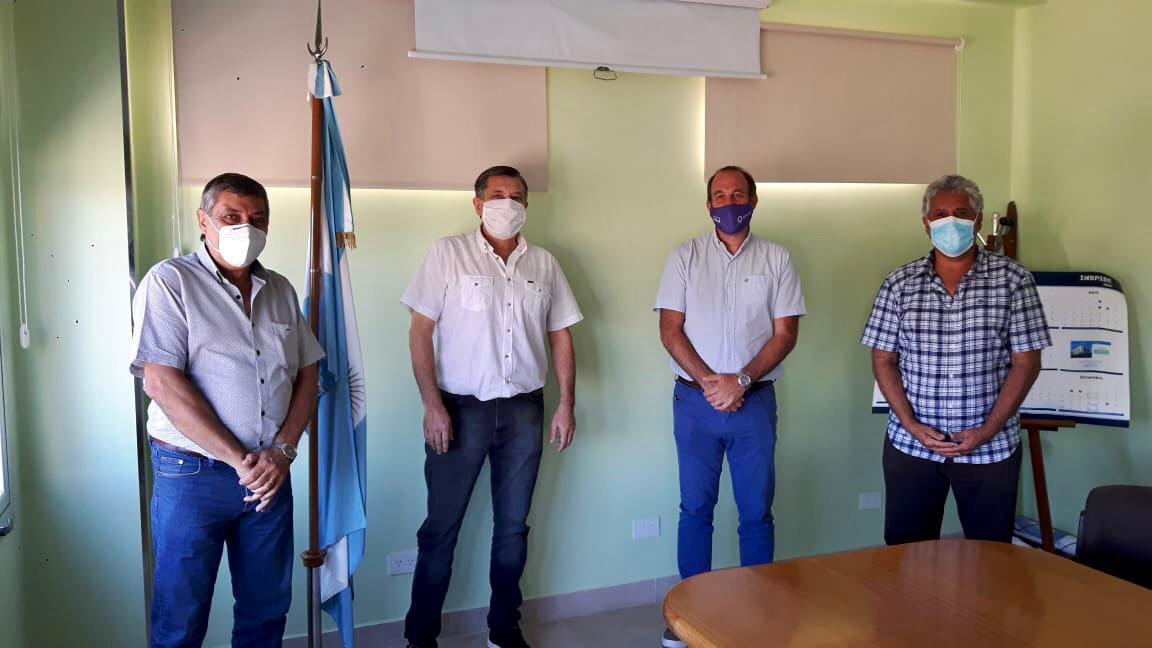with_mask: (194, 203, 276, 274), (472, 187, 541, 243), (703, 183, 769, 240), (925, 201, 981, 255)
